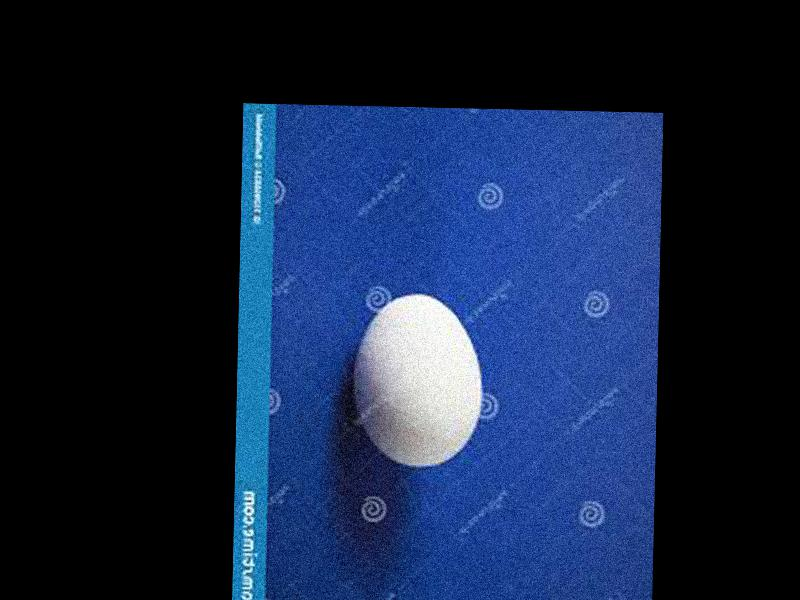Eggs: (351, 292, 482, 469)
